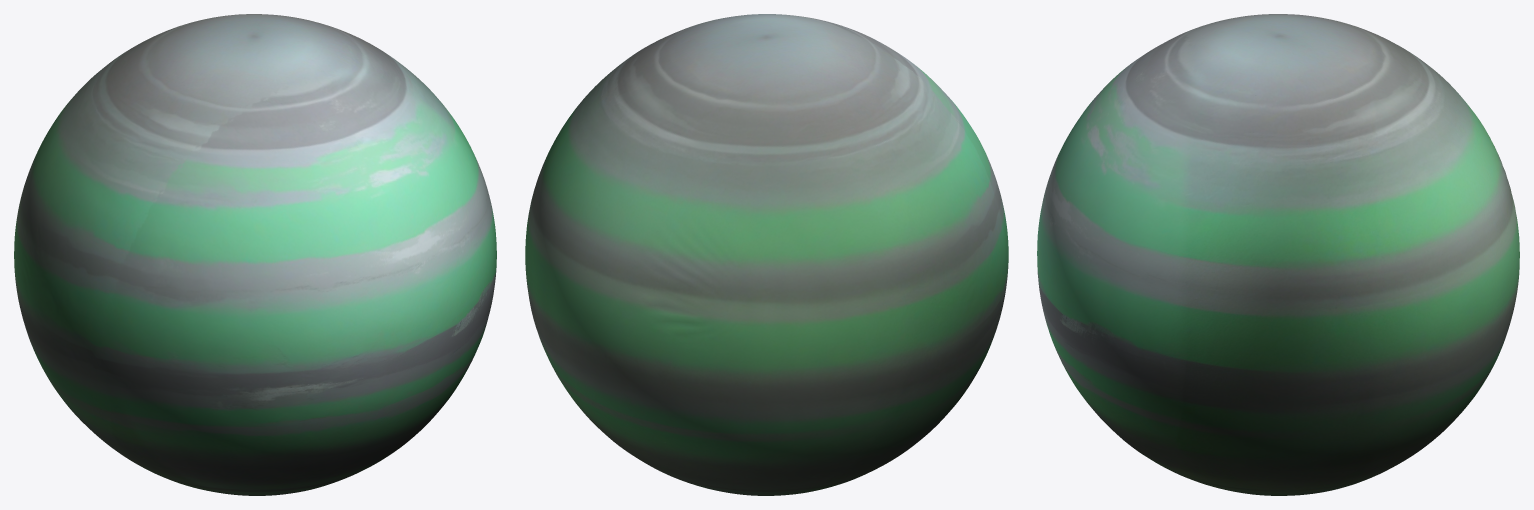
Rendered from LHS_3154_b_0919232140.glb.
3 renders of one model, left to right at view 1: azimuth 30°, elevation 25°; view 2: azimuth 150°, elevation 25°; view 3: azimuth 270°, elevation 25°, orthographic.
Bounding box in the file's own units: 2 × 2 × 2.
1 material, 1 textured.
